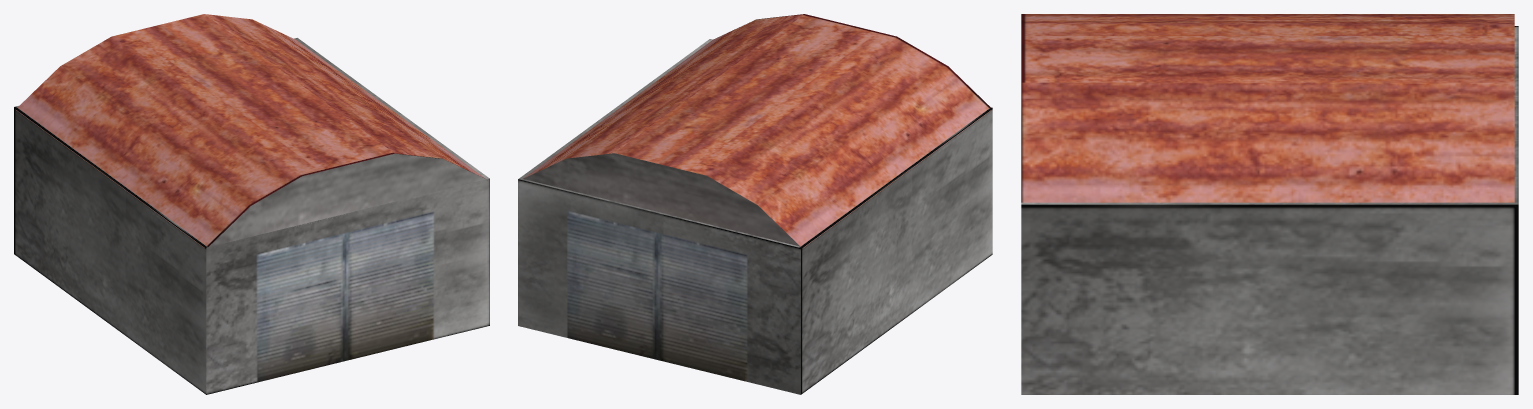
File: Hangar.FBX
The picture shows the model from 3 angles, left to right: view 1: azimuth 30°, elevation 25°; view 2: azimuth 150°, elevation 25°; view 3: azimuth 270°, elevation 25°; orthographic projection. The views are drawn at different scales.
Parts seen in each view (by area): view 1: Box001; view 2: Box001; view 3: Box001.
Part boxes in pixels (<box>): Box001: <box>14,14,489,394</box>; Box001: <box>518,14,992,394</box>; Box001: <box>1021,14,1518,394</box>.
Bounding box in the file's own units: 59.14 × 38.89 × 69.42.
